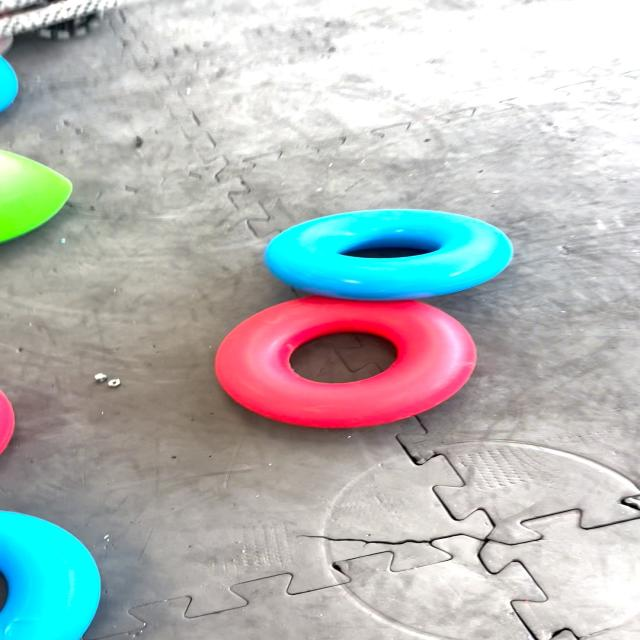Blue-Ring: (264, 209, 513, 301), (0, 511, 100, 639)
Red-Ring: (216, 296, 476, 429)
